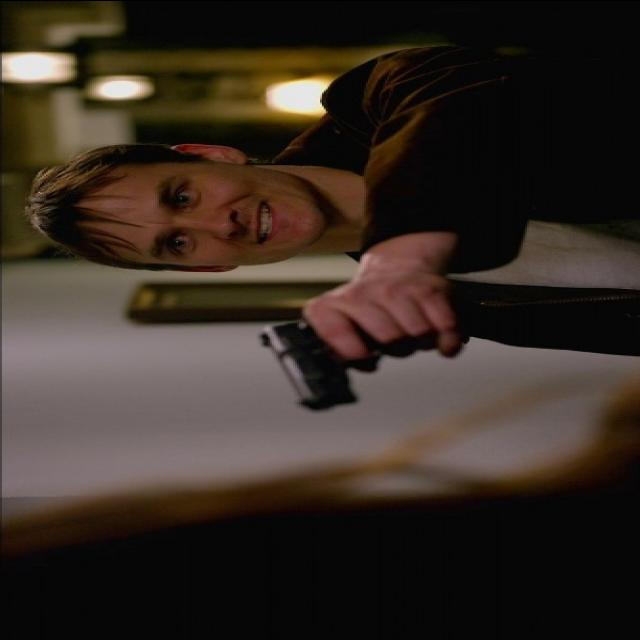weapons: (254, 292, 453, 414)
